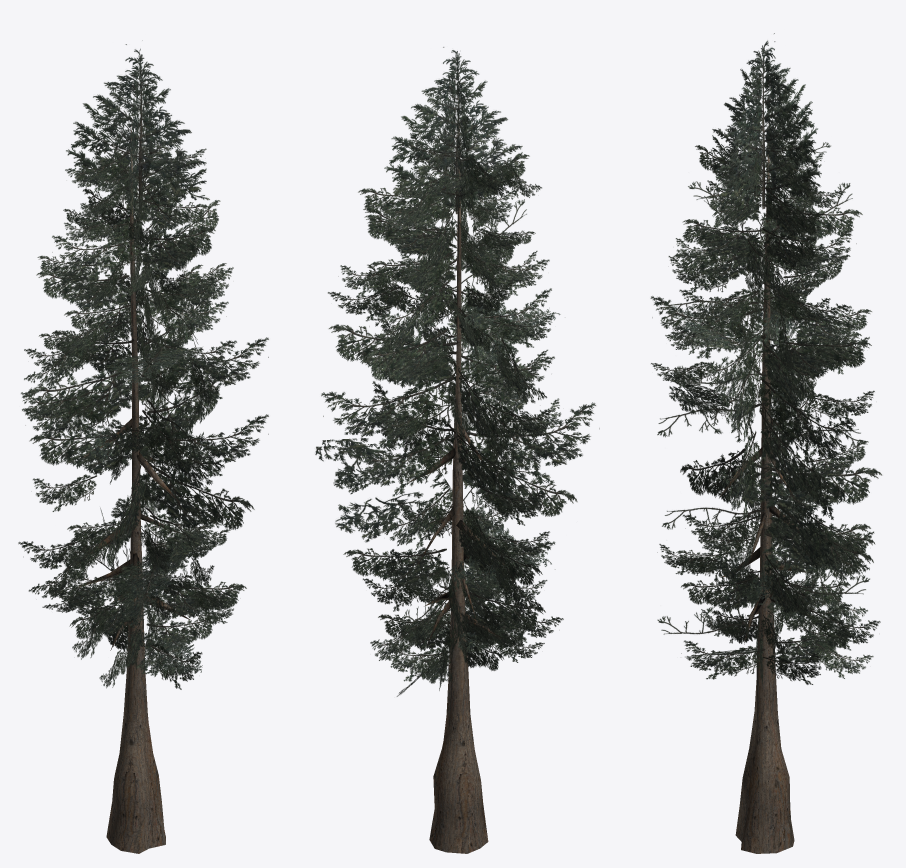
Rendered from birch.glb.
The picture shows the model from 3 angles, left to right: view 1: azimuth 30°, elevation 25°; view 2: azimuth 150°, elevation 25°; view 3: azimuth 270°, elevation 25°; orthographic projection.
Parts seen in each view (by area): view 1: Tree_Leaves, Tree_Trunk; view 2: Tree_Leaves, Tree_Trunk; view 3: Tree_Leaves, Tree_Trunk.
Boxes of the visible parts, bbox=[...] form: Tree_Leaves: bbox=[18, 40, 268, 689]; Tree_Trunk: bbox=[76, 125, 191, 853]; Tree_Leaves: bbox=[315, 47, 599, 696]; Tree_Trunk: bbox=[408, 127, 510, 853]; Tree_Leaves: bbox=[650, 33, 882, 685]; Tree_Trunk: bbox=[719, 124, 810, 853].
Bounding box in the file's own units: 0.4644 × 1.51 × 0.4453.
Materials: 2 (2 with a texture image).
